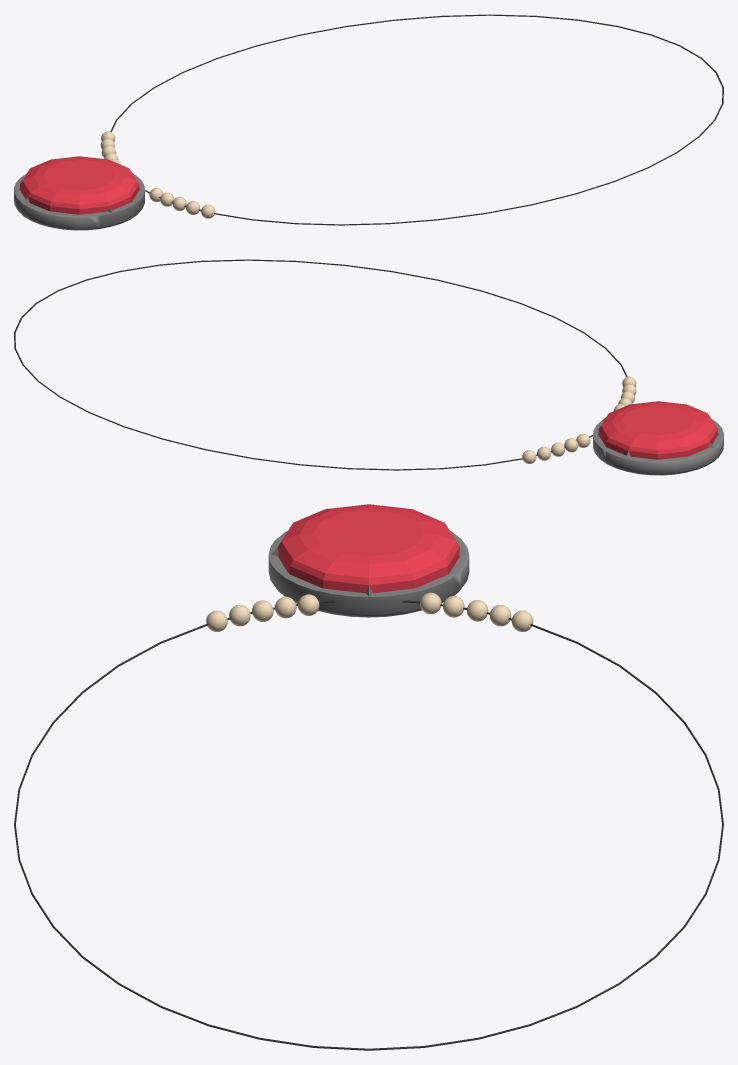
Rendered from Ruby Necklace.fbx.
The picture shows the model from 3 angles, top to bottom: view 1: azimuth 30°, elevation 25°; view 2: azimuth 150°, elevation 25°; view 3: azimuth 270°, elevation 25°; orthographic projection. The views are drawn at different scales.
Parts seen in each view (by area): view 1: Cylinder.001; view 2: Cylinder.001; view 3: Cylinder.001.
Part boxes in pixels (bbox=[...]): Cylinder.001: bbox=[14, 14, 723, 230]; Cylinder.001: bbox=[14, 259, 723, 475]; Cylinder.001: bbox=[14, 504, 723, 1050].
Size of the model in its own units: 226 by 11.53 by 134.
